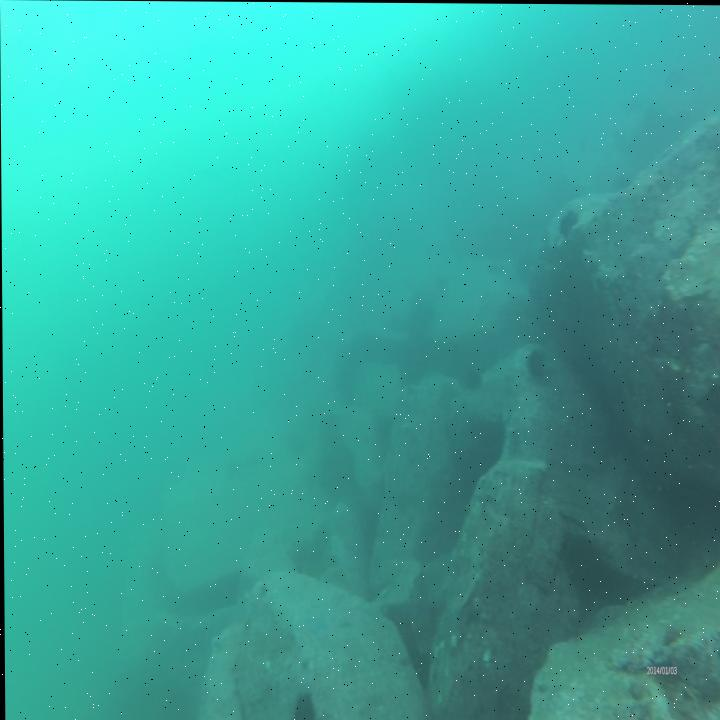echinus: (522, 344, 548, 385), (558, 206, 581, 238)
